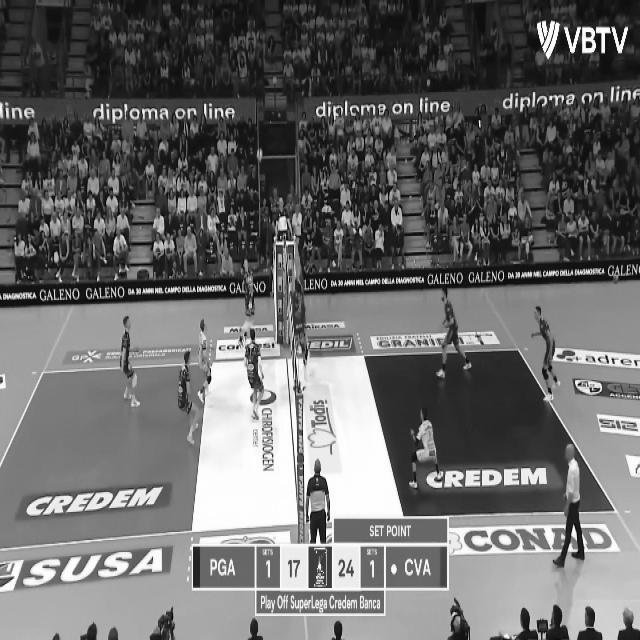volleyball court: (0, 348, 614, 533)
